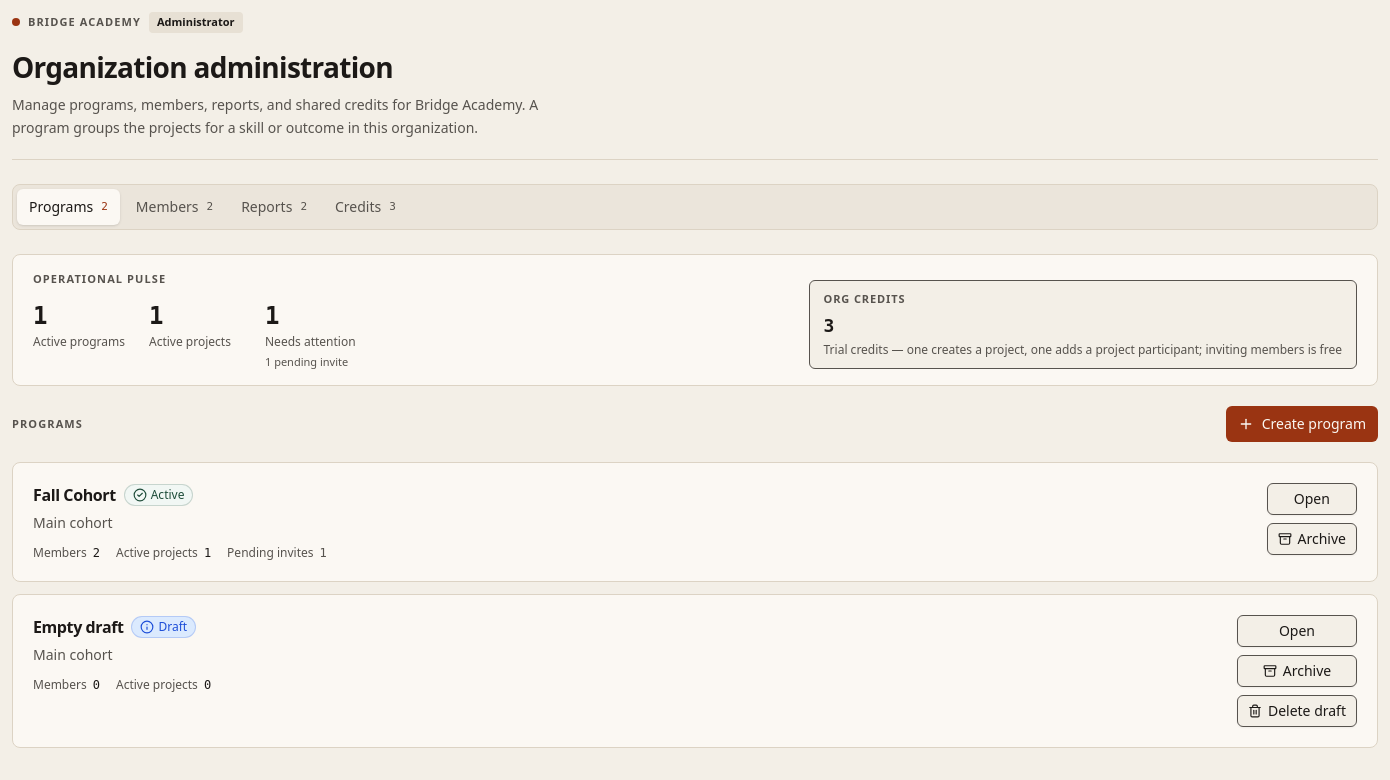
Test: OrgAdminPage › shows a failed export with a retry and polls a generating export after load
The image size is (1390, 780).
Expected: the heading "Organization administration" is shown, [12,48,393,86]
Step 1. Click the button "Reports 2" → (274,207), box [229,189,319,225]
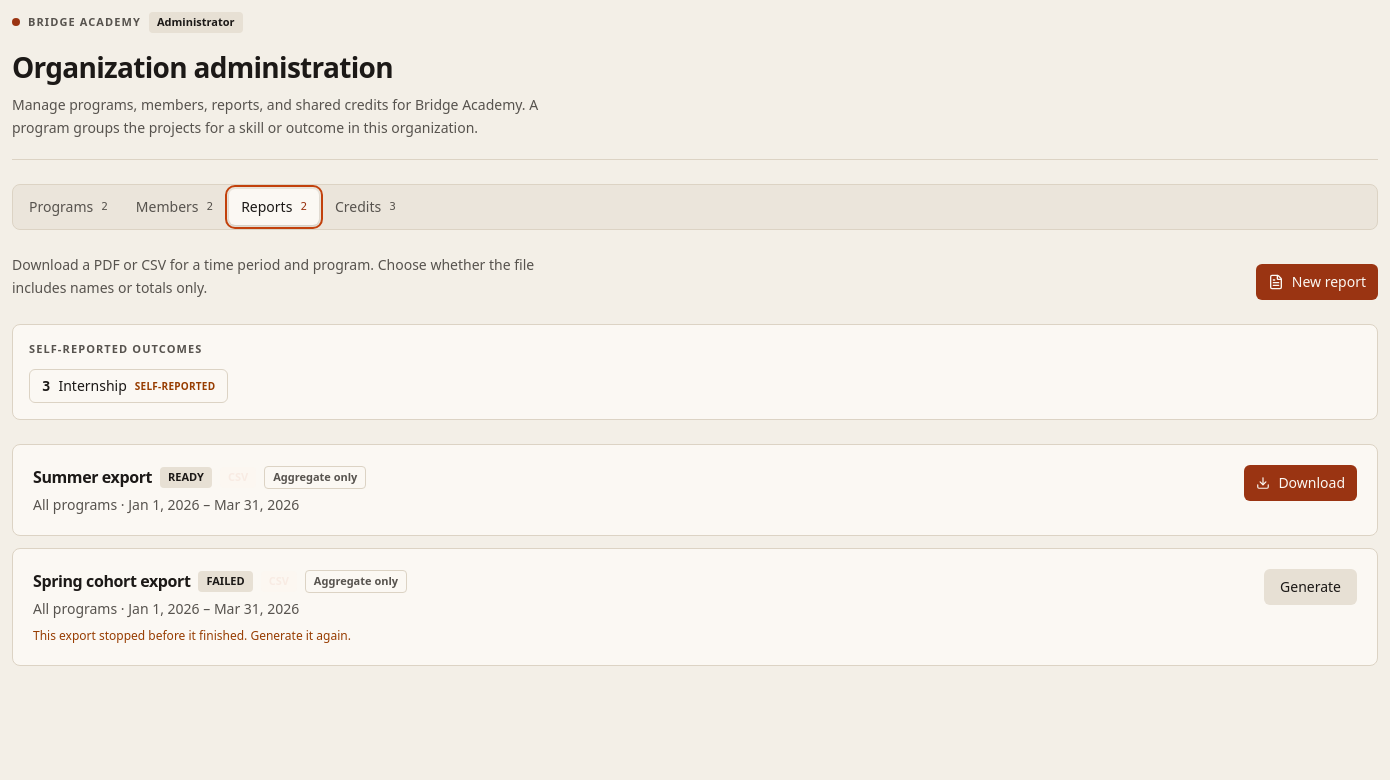
Result: the text "This export stopped before it finished. Generate it again." is shown at [33,627,407,645]
Result: the button "Generate" is shown at [1264,569,1357,605]
Result: the button "Download" is shown at [1244,465,1357,501]
